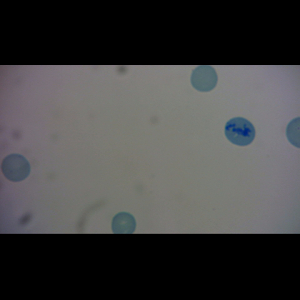aggregate reticulocyte: (223, 116, 257, 147)
erythrocyte: (1, 152, 32, 183), (189, 65, 219, 94), (110, 210, 137, 234)
